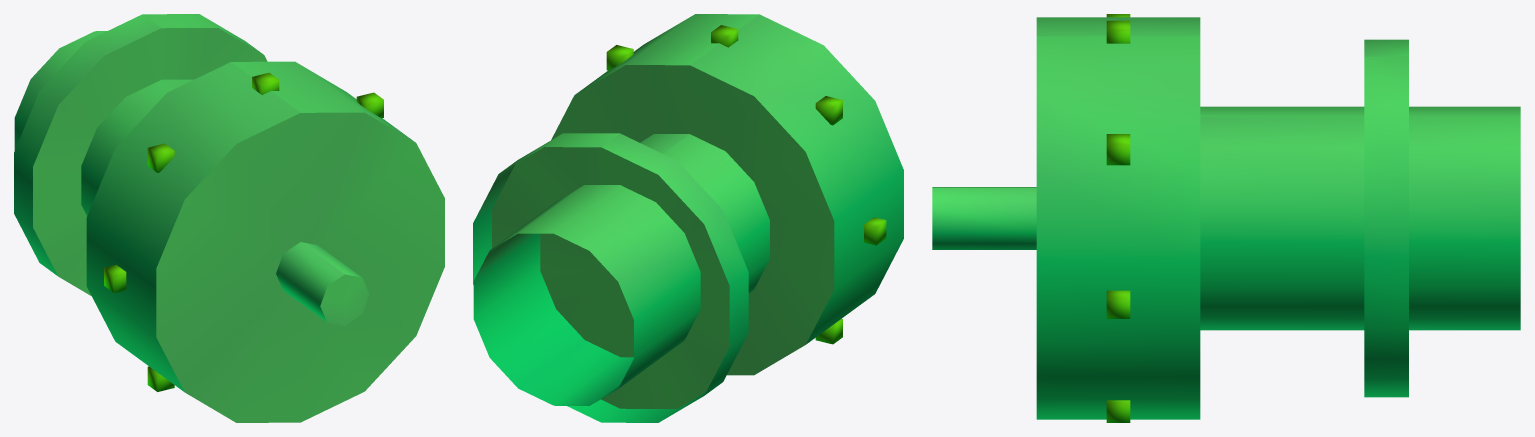
File: flue_key.glb
3 renders of one model, left to right at view 1: azimuth 30°, elevation 25°; view 2: azimuth 150°, elevation 25°; view 3: azimuth 270°, elevation 25°, orthographic. The views are drawn at different scales.
Parts seen in each view (by area): view 1: flue_key; view 2: flue_key; view 3: flue_key.
Part boxes in pixels (x1,y1,x2,y2): flue_key: [14, 14, 444, 422]; flue_key: [473, 14, 903, 422]; flue_key: [932, 14, 1520, 422].
Size of what is drawn, in the model's own units: 0.5715 by 0.5715 by 0.79.
